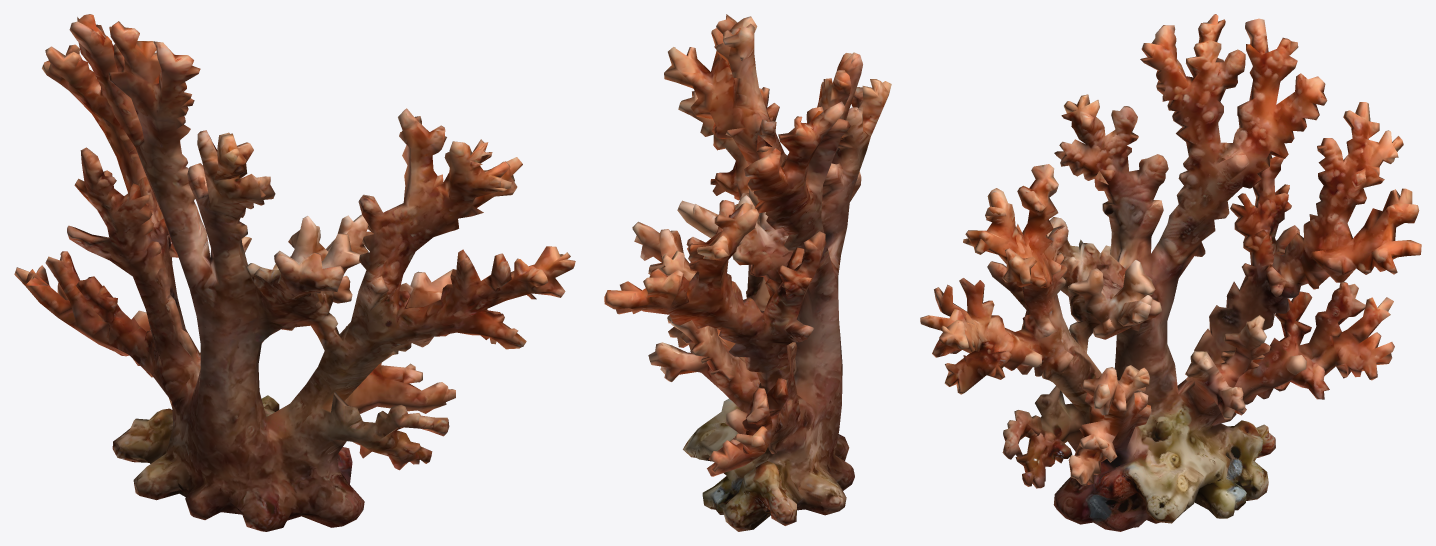
The model's file is Coral_Branch.fbx.
The picture shows the model from 3 angles, left to right: view 1: azimuth 30°, elevation 25°; view 2: azimuth 150°, elevation 25°; view 3: azimuth 270°, elevation 25°; orthographic projection. The views are drawn at different scales.
Visible parts, largest first — view 1: tripo_node_de81dfac; view 2: tripo_node_de81dfac; view 3: tripo_node_de81dfac.
Part boxes in pixels (left/top/right/bottom): tripo_node_de81dfac: left=14, top=14, right=575, bottom=531; tripo_node_de81dfac: left=604, top=14, right=891, bottom=531; tripo_node_de81dfac: left=920, top=14, right=1421, bottom=531.
Bounding box in the file's own units: 0.7036 × 0.9868 × 0.9995.
1 material, 1 textured.
